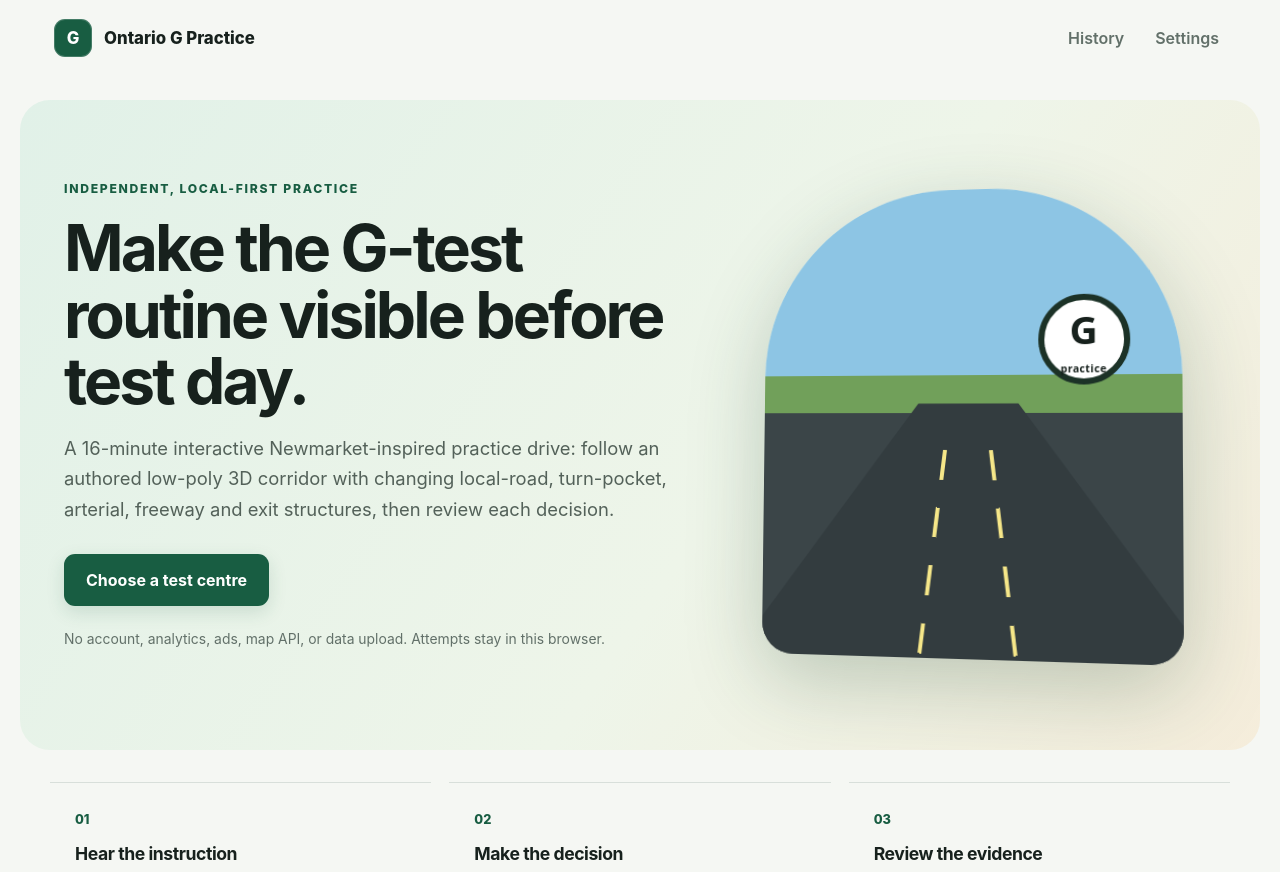
it: App › offers an independent road ambience preference
Click the button "Settings": (1187, 38) top-left (1142, 18), bottom-right (1232, 58)
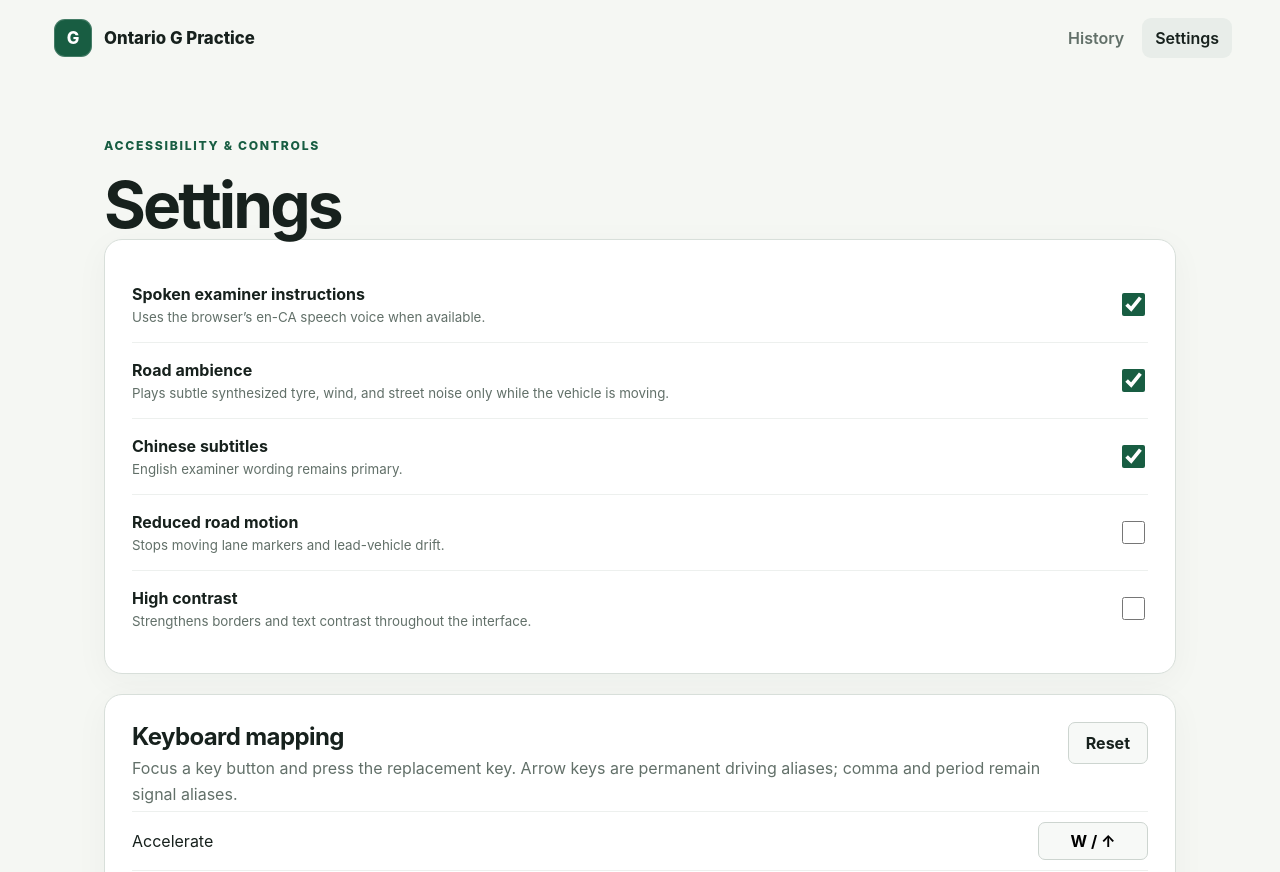
Check: the checkbox labelled "Road ambience" is checked, box top-left (1122, 369), bottom-right (1145, 392)
